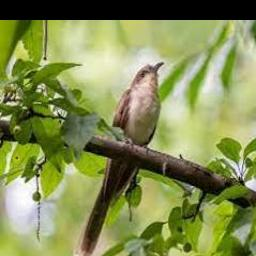Cuckoo: (73, 61, 165, 256)
